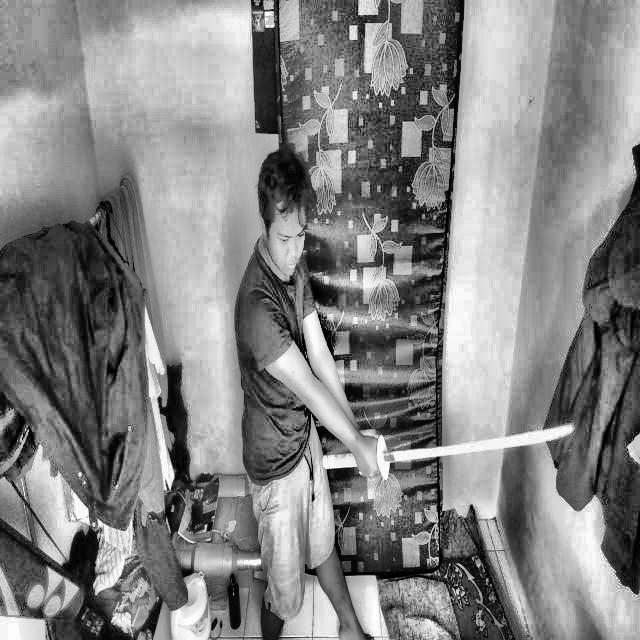pisau: (319, 425, 588, 488)
